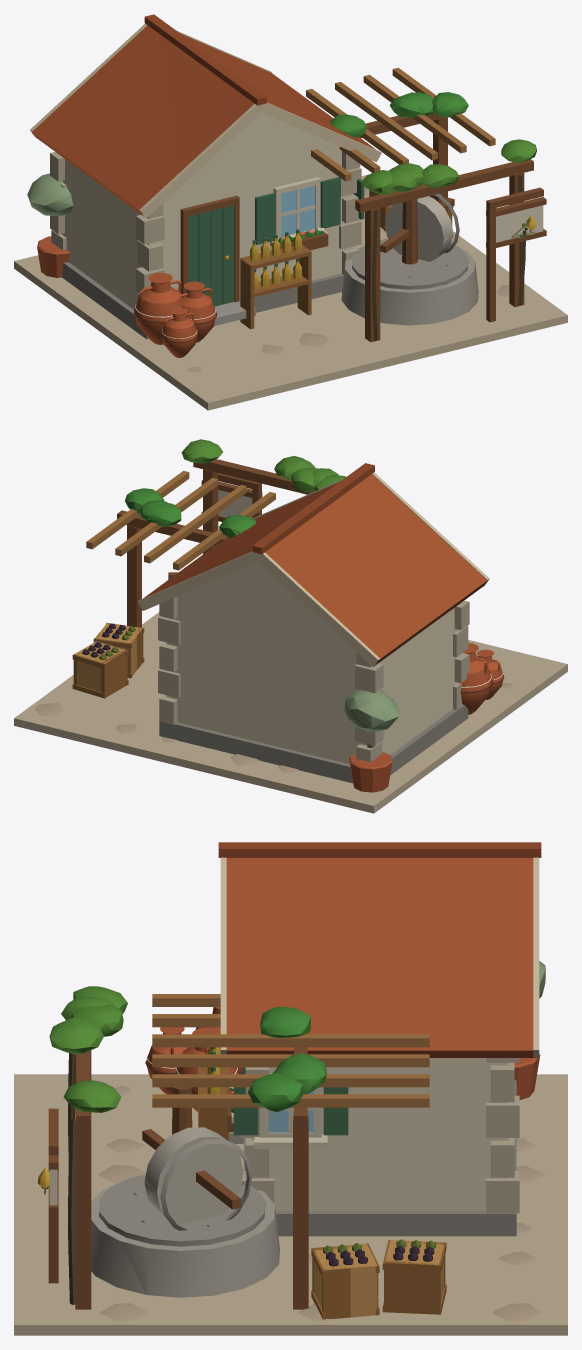
File: oil_press.glb
3 views of the same model, one above another, from view 1: azimuth 30°, elevation 25°; view 2: azimuth 150°, elevation 25°; view 3: azimuth 270°, elevation 25° (orthographic). The views are drawn at different scales.
Visible parts, largest first — view 1: building-oil_press, building-oil_press-far; view 2: building-oil_press; view 3: building-oil_press, building-oil_press-far.
Part boxes in pixels (left/top/right/bottom): building-oil_press: left=14, top=14, right=567, bottom=410; building-oil_press-far: left=28, top=106, right=542, bottom=347; building-oil_press: left=14, top=439, right=567, bottom=813; building-oil_press: left=14, top=842, right=567, bottom=1335; building-oil_press-far: left=48, top=1005, right=325, bottom=1297.
Bounding box in the file's own units: 6.07 × 3.65 × 5.6.
